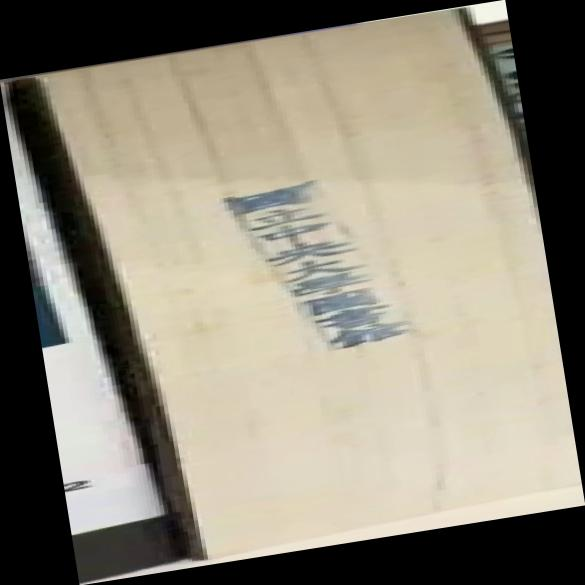backward: (1, 1, 585, 585)
